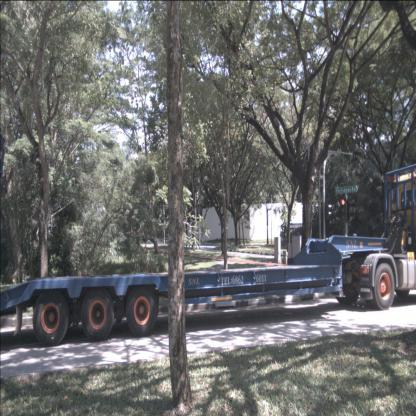vehicle-truck: (333, 163, 416, 311)
